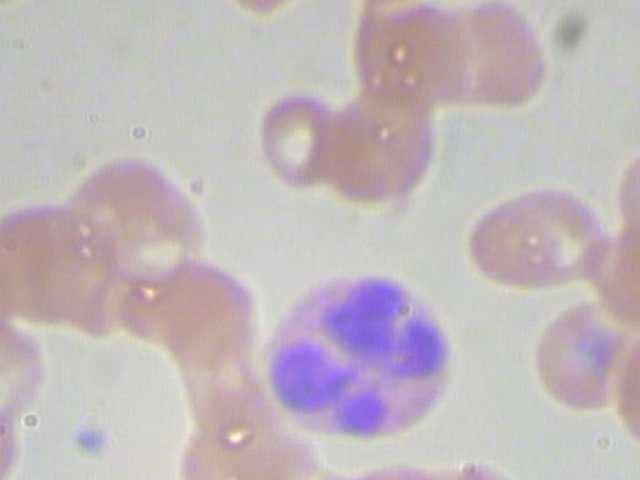Platelets: (70, 418, 110, 457)
RBC: (59, 148, 221, 304), (460, 185, 615, 294), (322, 83, 449, 209), (136, 260, 266, 363), (343, 0, 462, 103), (528, 299, 619, 409), (245, 88, 341, 192), (463, 0, 547, 105), (0, 397, 25, 480), (0, 254, 13, 366)
WBC: (243, 269, 482, 445)
